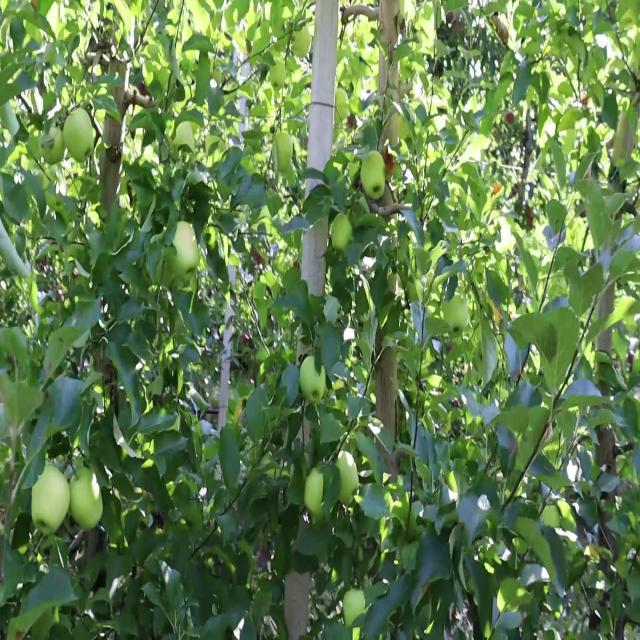apple: (31, 466, 69, 536), (70, 466, 104, 532), (166, 219, 200, 278), (63, 107, 94, 163), (333, 450, 359, 502), (298, 357, 326, 404), (360, 150, 386, 200), (444, 292, 468, 338), (342, 585, 366, 627), (304, 468, 324, 518), (40, 123, 63, 166), (272, 133, 294, 172), (331, 212, 352, 248), (291, 28, 311, 57), (335, 87, 349, 123), (270, 60, 286, 90)
